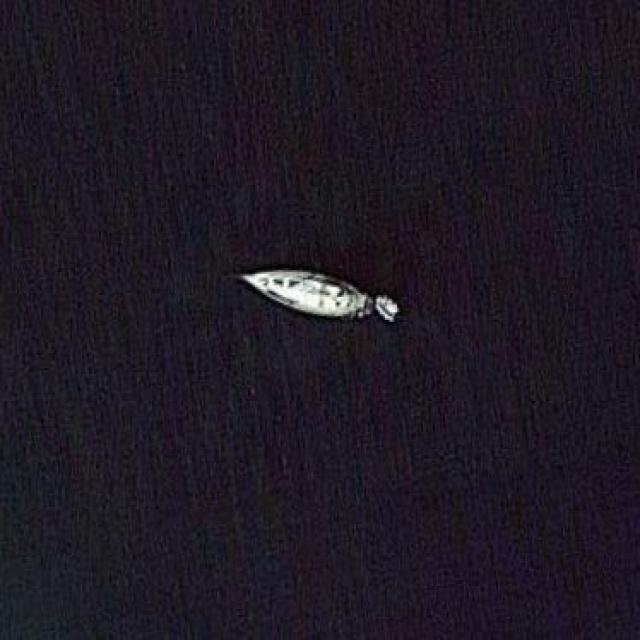ship: (229, 266, 373, 324)
